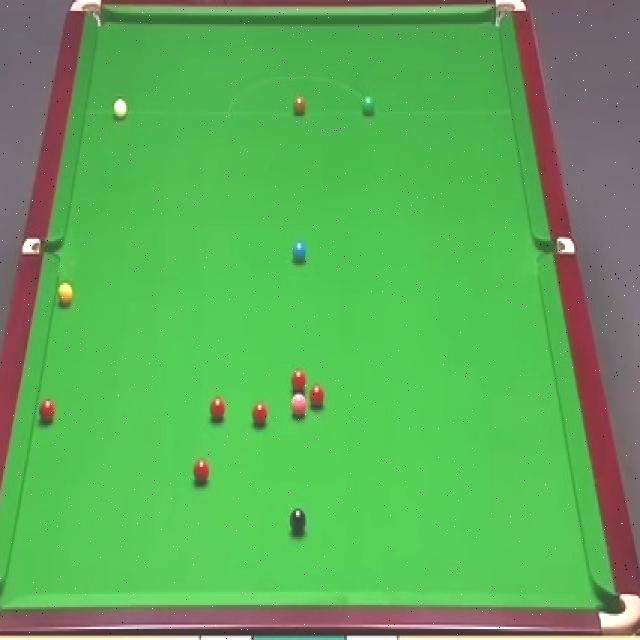black-ball: (288, 506, 306, 535)
blue-ball: (292, 240, 308, 260)
brown-ball: (292, 92, 306, 114)
green-ball: (361, 94, 374, 114)
pink-ball: (291, 394, 308, 419)
red-ball: (192, 458, 210, 486), (252, 400, 269, 427), (37, 398, 55, 423), (309, 383, 327, 407), (211, 394, 226, 422), (290, 369, 306, 390)
white-ball: (114, 98, 126, 119)
yellow-ball: (58, 283, 74, 306)
